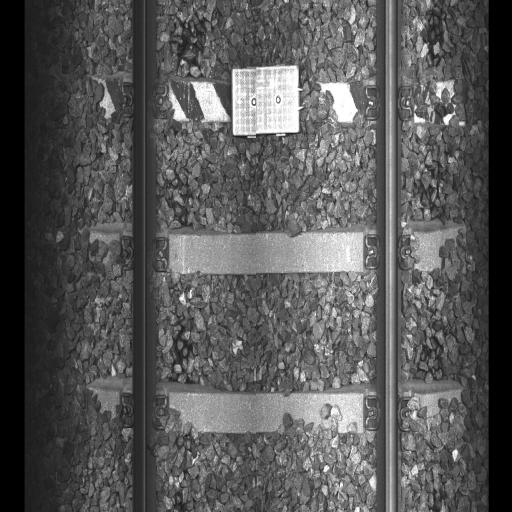clips: (364, 388, 418, 443), (123, 387, 167, 446), (121, 225, 167, 281), (364, 228, 417, 275), (120, 79, 166, 129), (368, 80, 414, 126)
sleepers: (80, 384, 462, 456), (81, 222, 464, 285), (81, 77, 468, 132)
